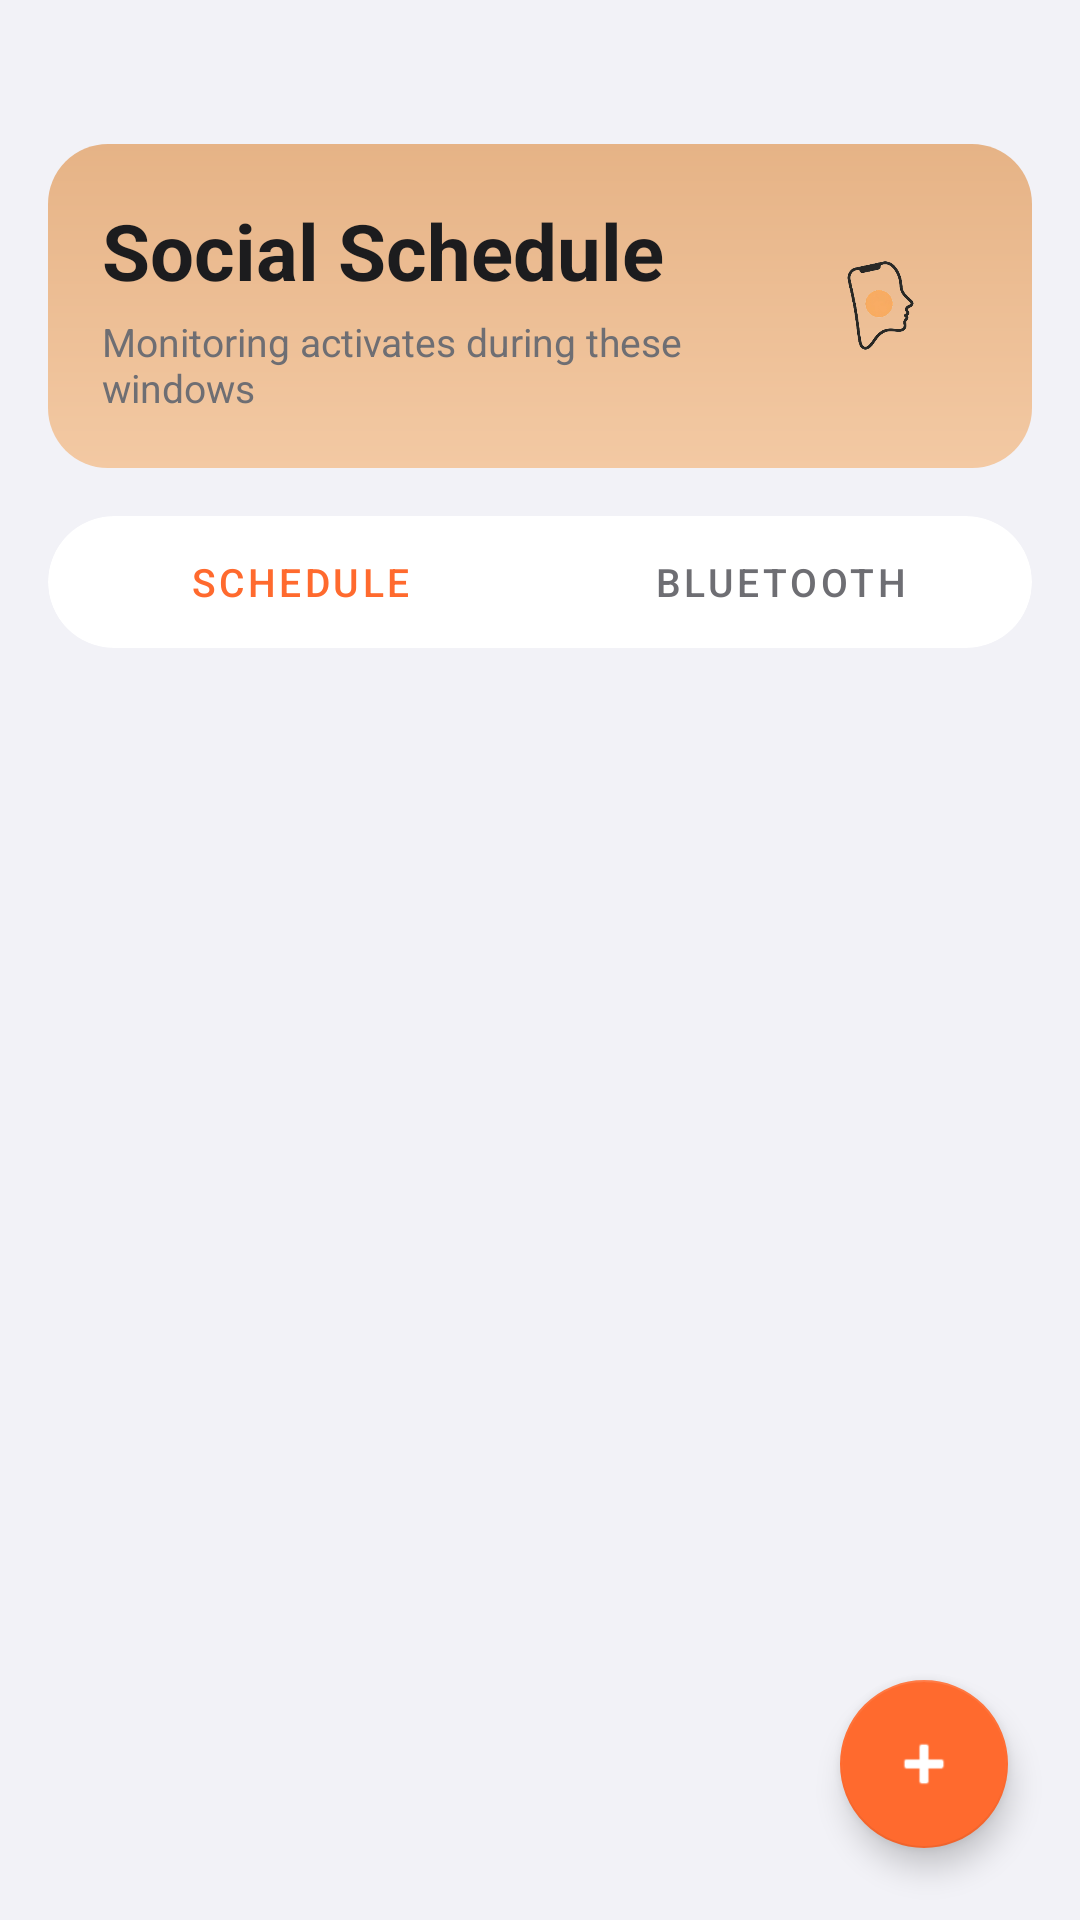

Locate icon controls on the screen. Image size 1080*1920, boxes as (x1, y1, x2, y2).
Add Schedule: (840, 1680, 1008, 1848)
